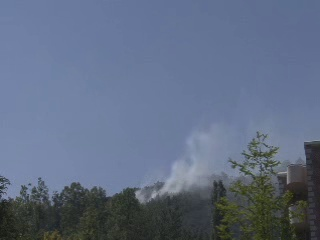smoke: (131, 129, 222, 205)
